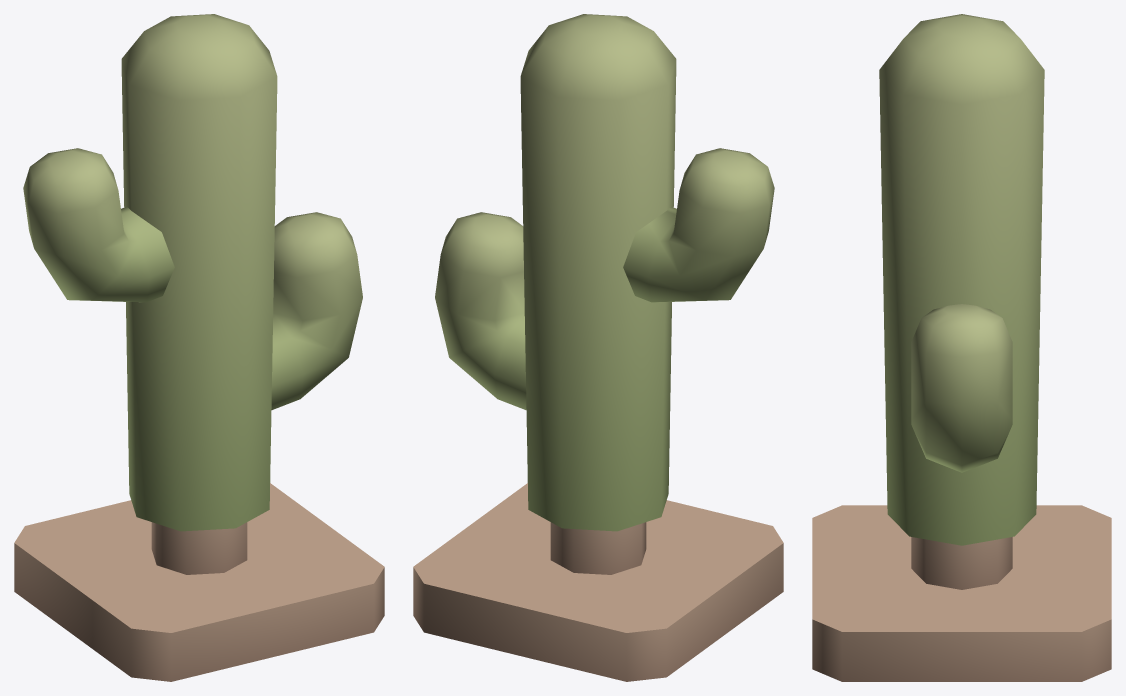
File: cat-tower-scratch-cactus.glb
The picture shows the model from 3 angles, left to right: view 1: azimuth 30°, elevation 25°; view 2: azimuth 150°, elevation 25°; view 3: azimuth 270°, elevation 25°; orthographic projection. The views are drawn at different scales.
Visible parts, largest first — view 1: cat-tower-scratch-cactus; view 2: cat-tower-scratch-cactus; view 3: cat-tower-scratch-cactus.
Boxes of the visible parts, left/top/right/bottom form: cat-tower-scratch-cactus: left=14, top=14, right=384, bottom=681; cat-tower-scratch-cactus: left=413, top=14, right=783, bottom=681; cat-tower-scratch-cactus: left=812, top=14, right=1111, bottom=681.
Size of the model in its own units: 0.3252 by 0.545 by 0.25.
